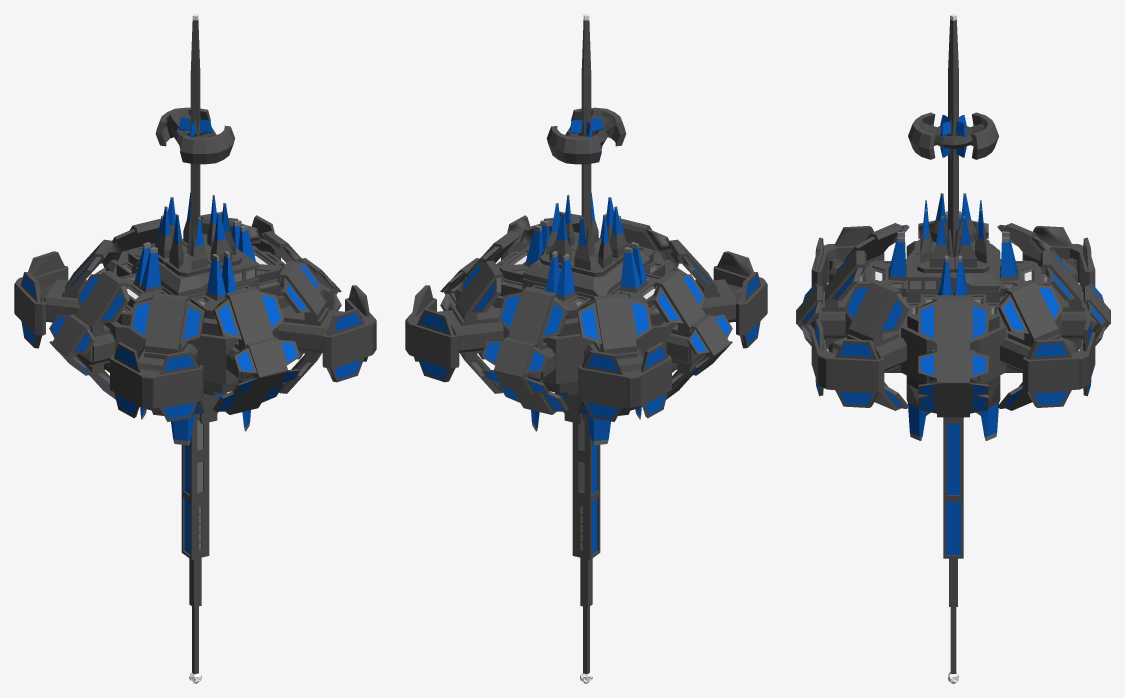
Rendered from 666_structure_extender_3x3.glb.
The picture shows the model from 3 angles, left to right: view 1: azimuth 30°, elevation 25°; view 2: azimuth 150°, elevation 25°; view 3: azimuth 270°, elevation 25°; orthographic projection.
Parts seen in each view (by area): view 1: 666_structure_extender_3x3.001, 66_structure_extender_3x3_spinner; view 2: 666_structure_extender_3x3.001, 66_structure_extender_3x3_spinner; view 3: 666_structure_extender_3x3.001, 66_structure_extender_3x3_spinner.
Part boxes in pixels (x1,y1,x2,y2): 666_structure_extender_3x3.001: (14,14,376,683); 66_structure_extender_3x3_spinner: (155,107,234,164); 666_structure_extender_3x3.001: (405,14,767,683); 66_structure_extender_3x3_spinner: (546,107,626,164); 666_structure_extender_3x3.001: (796,14,1110,683); 66_structure_extender_3x3_spinner: (908,112,998,159).
Size of the model in its own units: 0.9984 by 2.34 by 0.9984.
